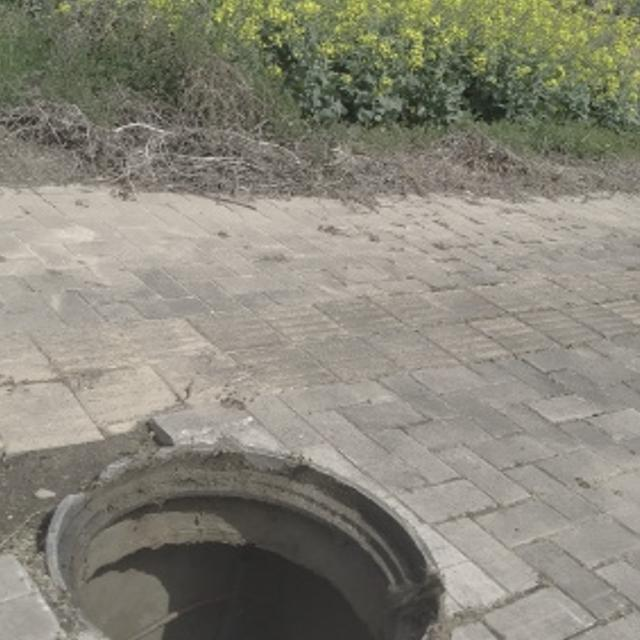lose: (33, 439, 456, 640)
